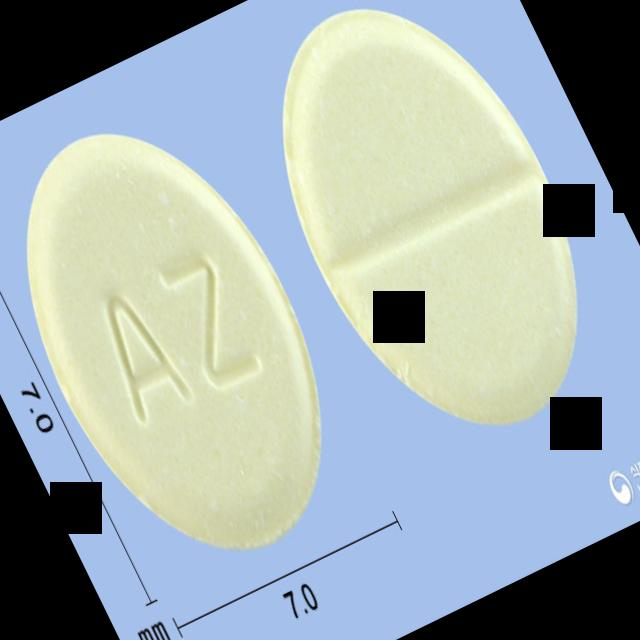Azafrine Tab: (0, 79, 389, 604)
